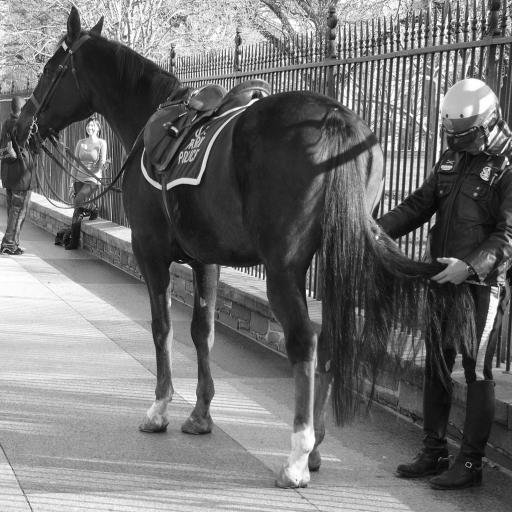horse: (12, 6, 476, 489)
